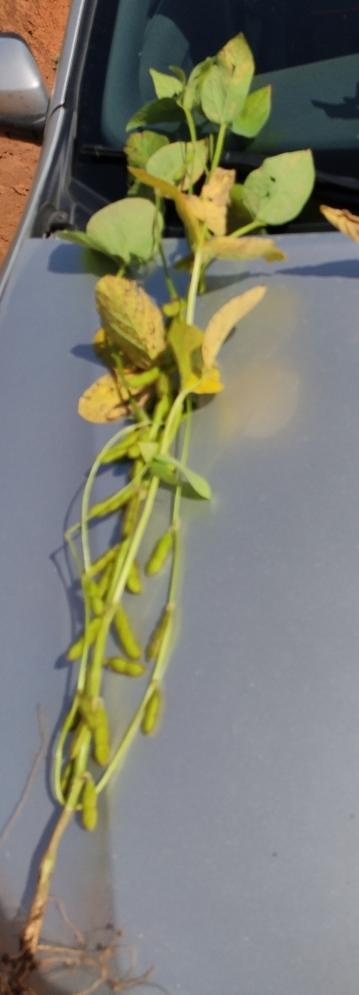soja: (141, 607, 178, 663), (85, 485, 135, 524), (61, 617, 100, 663), (113, 603, 142, 659), (146, 525, 174, 579), (83, 542, 122, 579), (98, 430, 139, 465), (81, 772, 102, 832), (140, 688, 164, 737), (68, 715, 88, 767), (106, 654, 142, 682), (95, 704, 110, 770), (119, 560, 148, 592), (49, 764, 77, 797), (102, 404, 133, 422)
